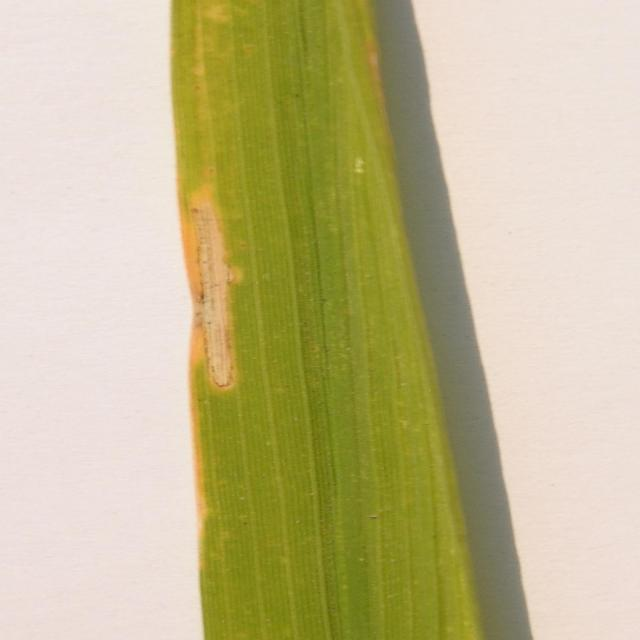leaf blight: (180, 175, 241, 532)
